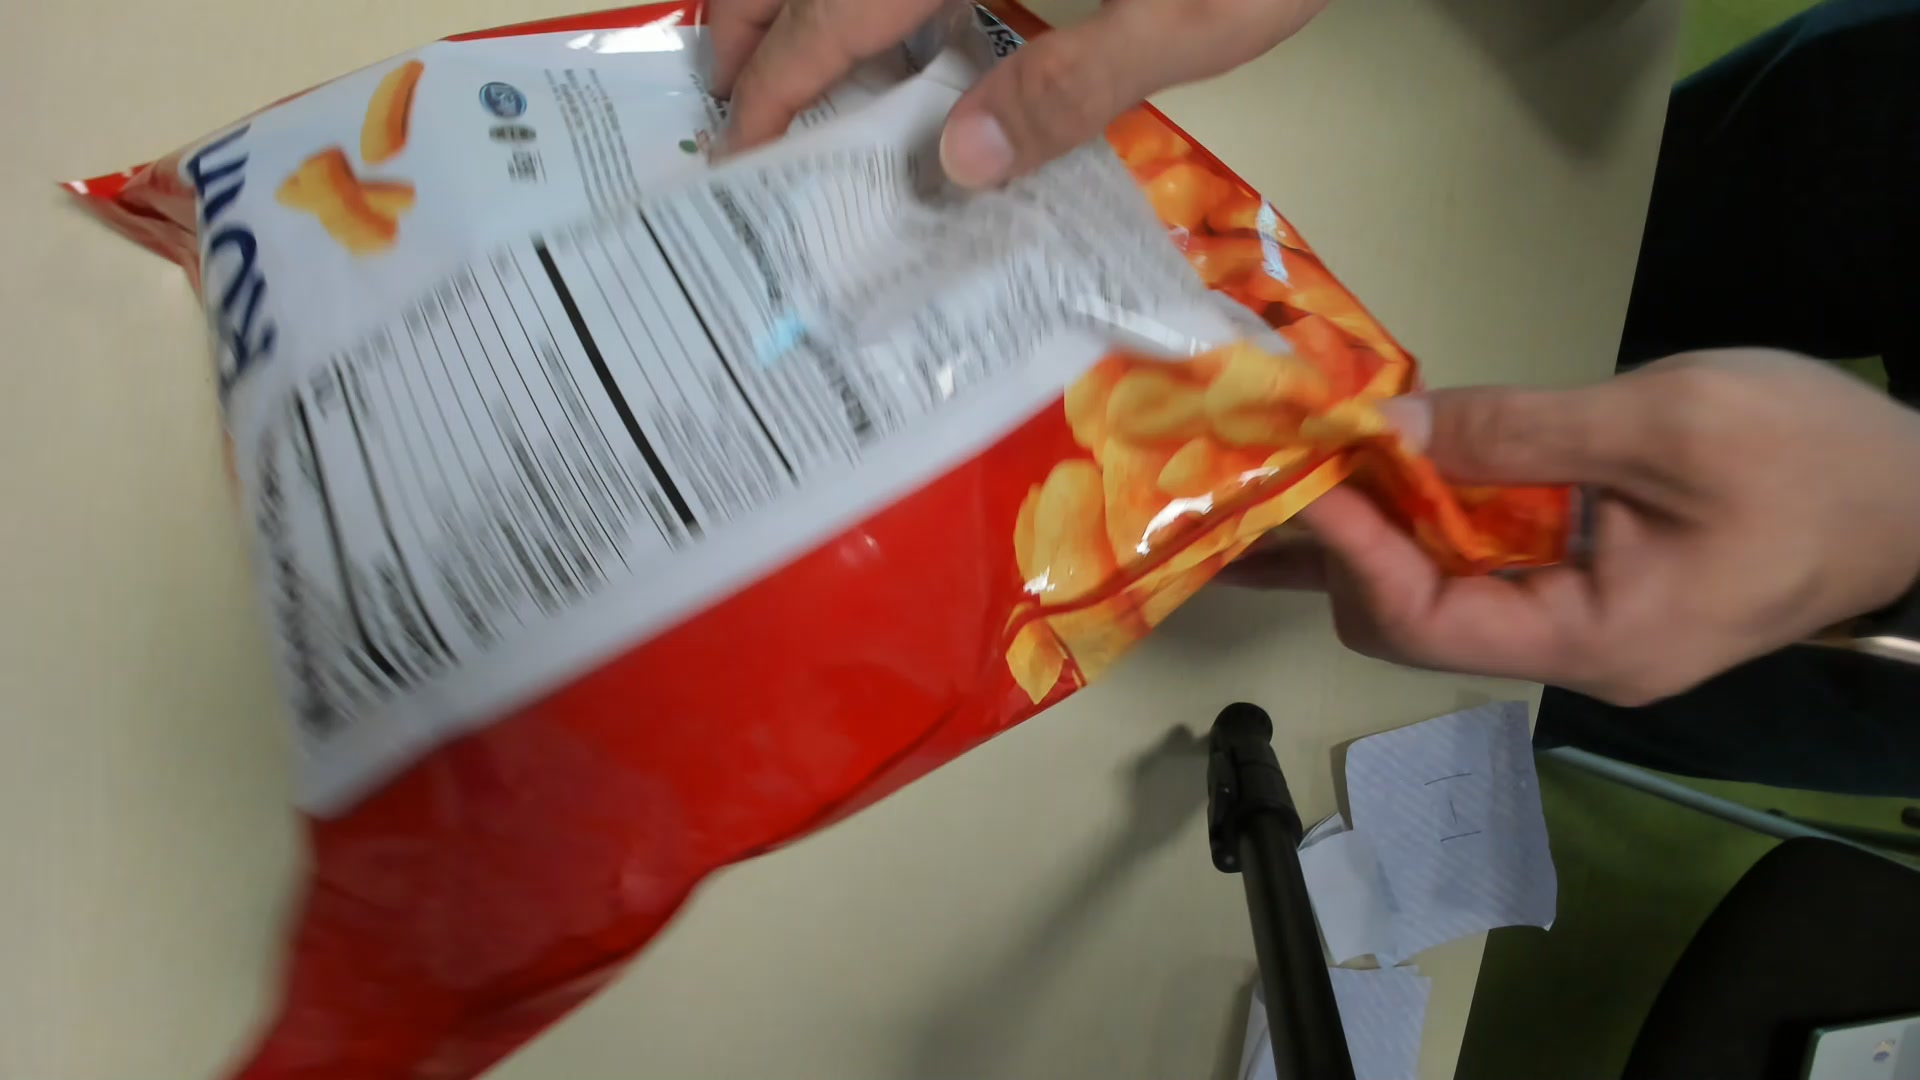PotatoChipsKeropok_100-199g_Halal_NonHealthy: (133, 7, 1461, 1080)
